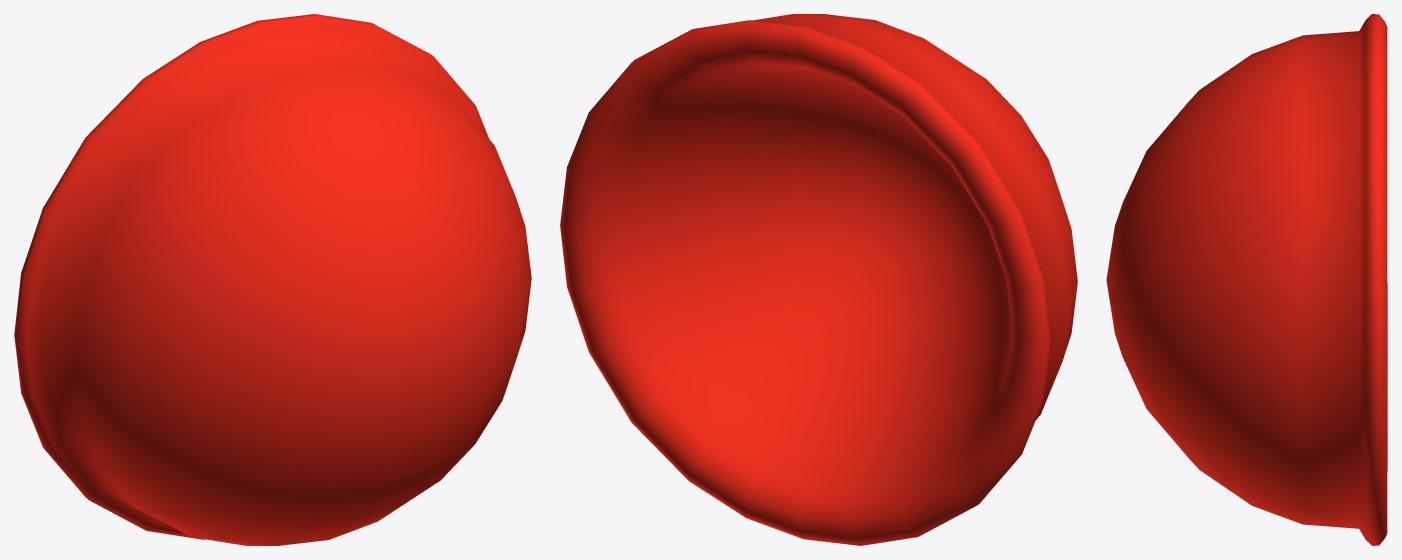
File: AmongUs_Cut_01_Pupka_004_0.FBX
3 renders of one model, left to right at view 1: azimuth 30°, elevation 25°; view 2: azimuth 150°, elevation 25°; view 3: azimuth 270°, elevation 25°, orthographic. The views are drawn at different scales.
Parts seen in each view (by area): view 1: AmongUs_Cut_01_Pupka_004_0; view 2: AmongUs_Cut_01_Pupka_004_0; view 3: AmongUs_Cut_01_Pupka_004_0.
Part boxes in pixels (bbox=[...]): AmongUs_Cut_01_Pupka_004_0: bbox=[14, 14, 531, 545]; AmongUs_Cut_01_Pupka_004_0: bbox=[560, 14, 1077, 545]; AmongUs_Cut_01_Pupka_004_0: bbox=[1106, 14, 1387, 545].
Size of the model in its own units: 0.7857 by 0.4145 by 0.7857.
